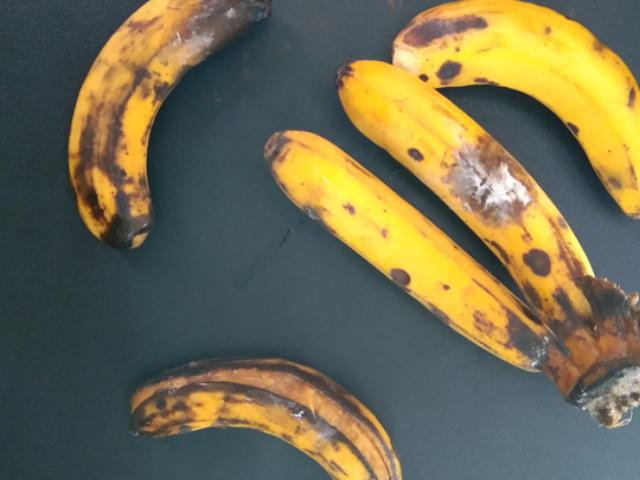overripe: (338, 56, 593, 327), (269, 125, 529, 374), (397, 3, 639, 211)
rotten: (53, 0, 296, 271), (98, 349, 429, 479)
